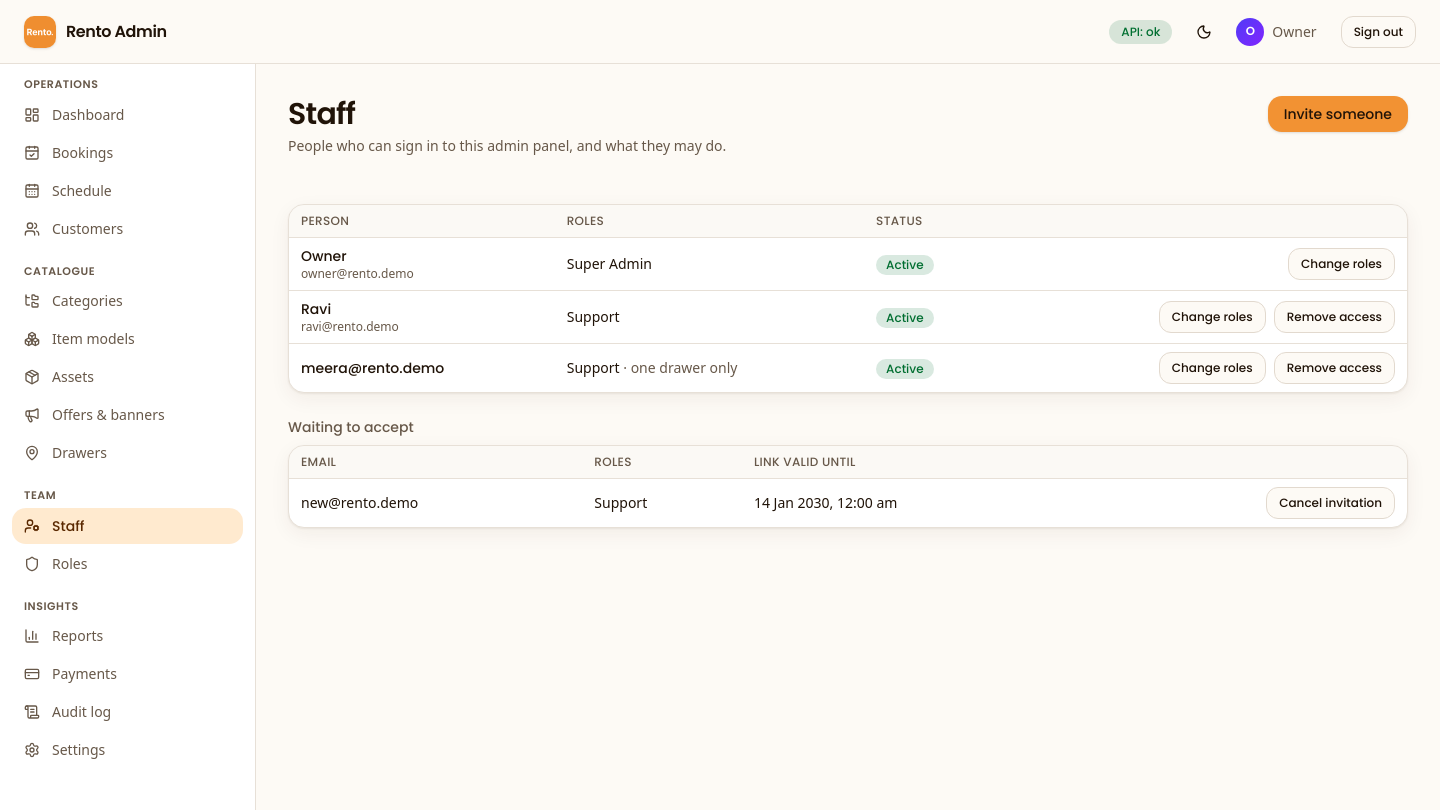
Scenario: staff › T-04 inviting needs an email and a role, then sends them (null drawer = all drawers)
Click the button "Invite someone" at [1338, 114], box [1268, 96, 1408, 132]
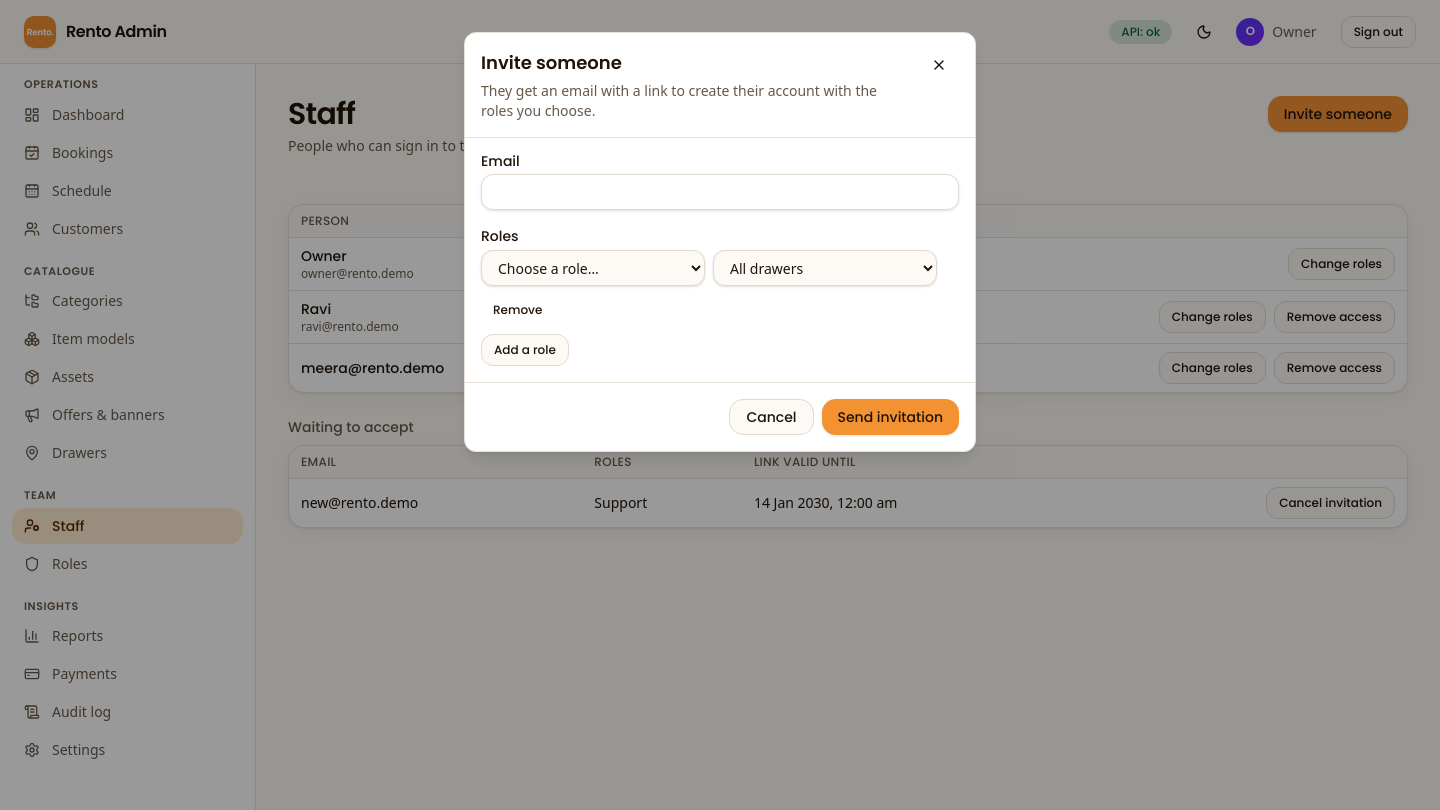
Click the button "Send invitation" at [890, 417], box [822, 399, 959, 435]
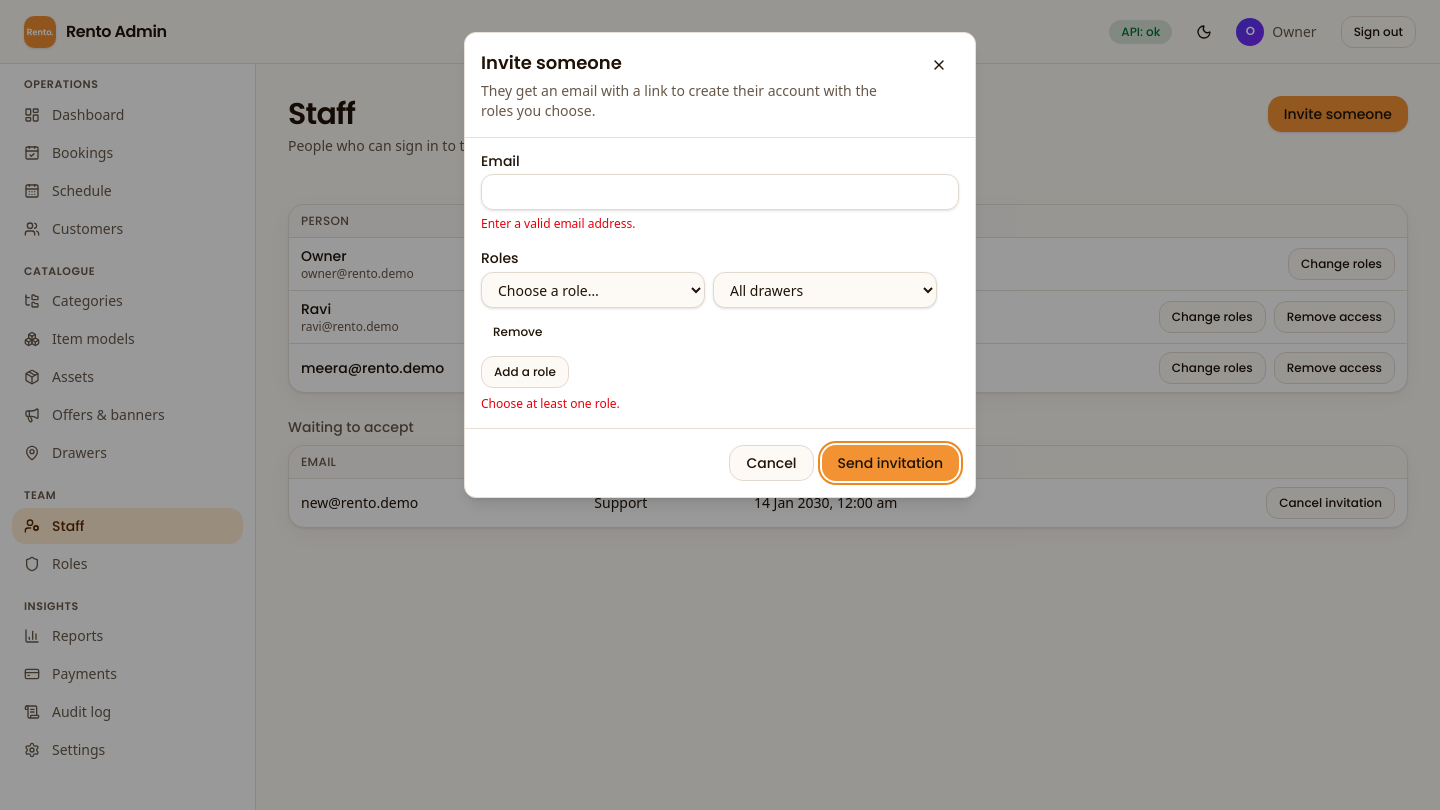
Expected: the text "Enter a valid email address." is shown, [481, 215, 635, 232]
Expected: the text "Choose at least one role." is shown, [481, 395, 620, 412]
Type "priya@rento.demo" into the field labelled "Email" at [720, 192], box [481, 174, 959, 210]
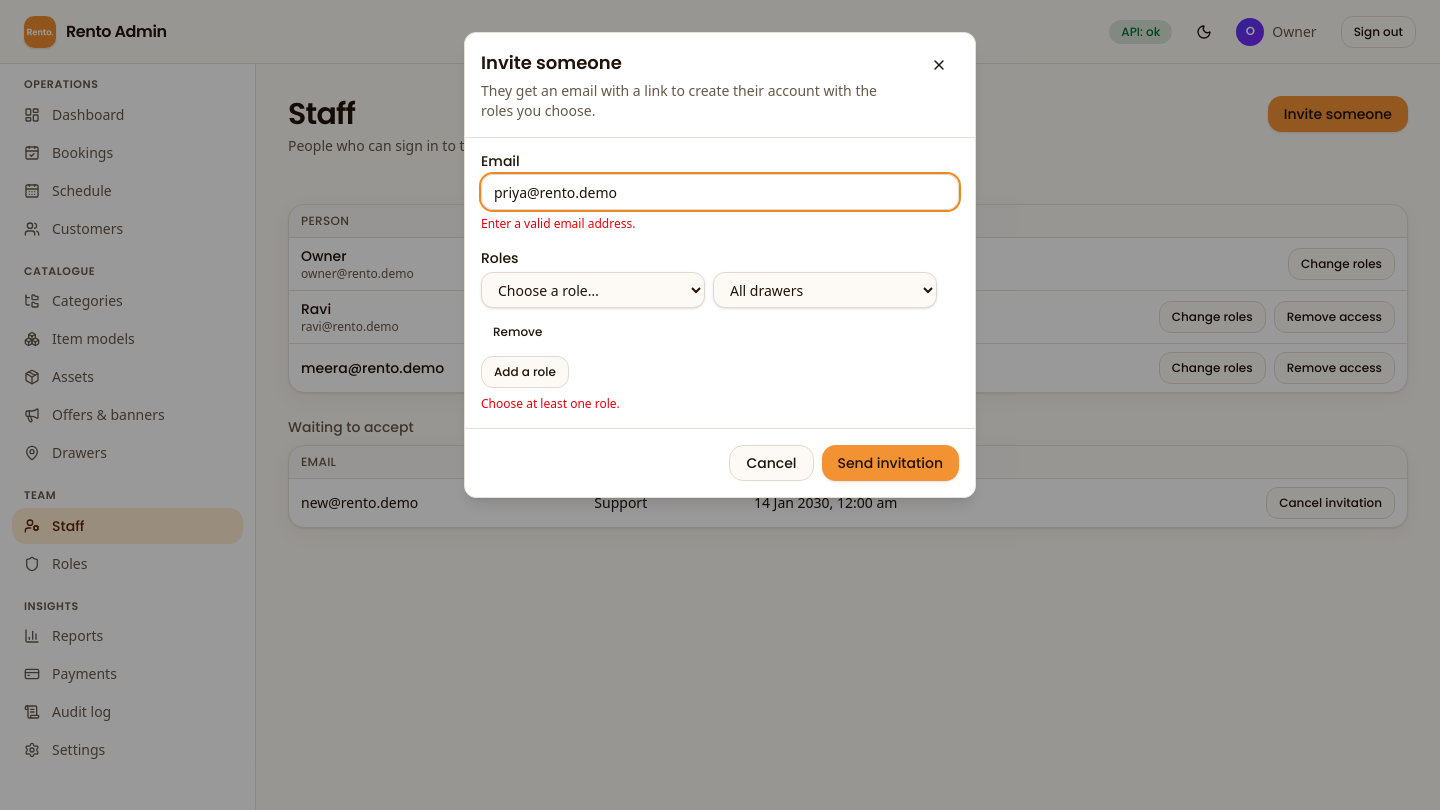
Select "Support" in the dropdown named "Role 1" at [593, 290], box [481, 272, 705, 308]
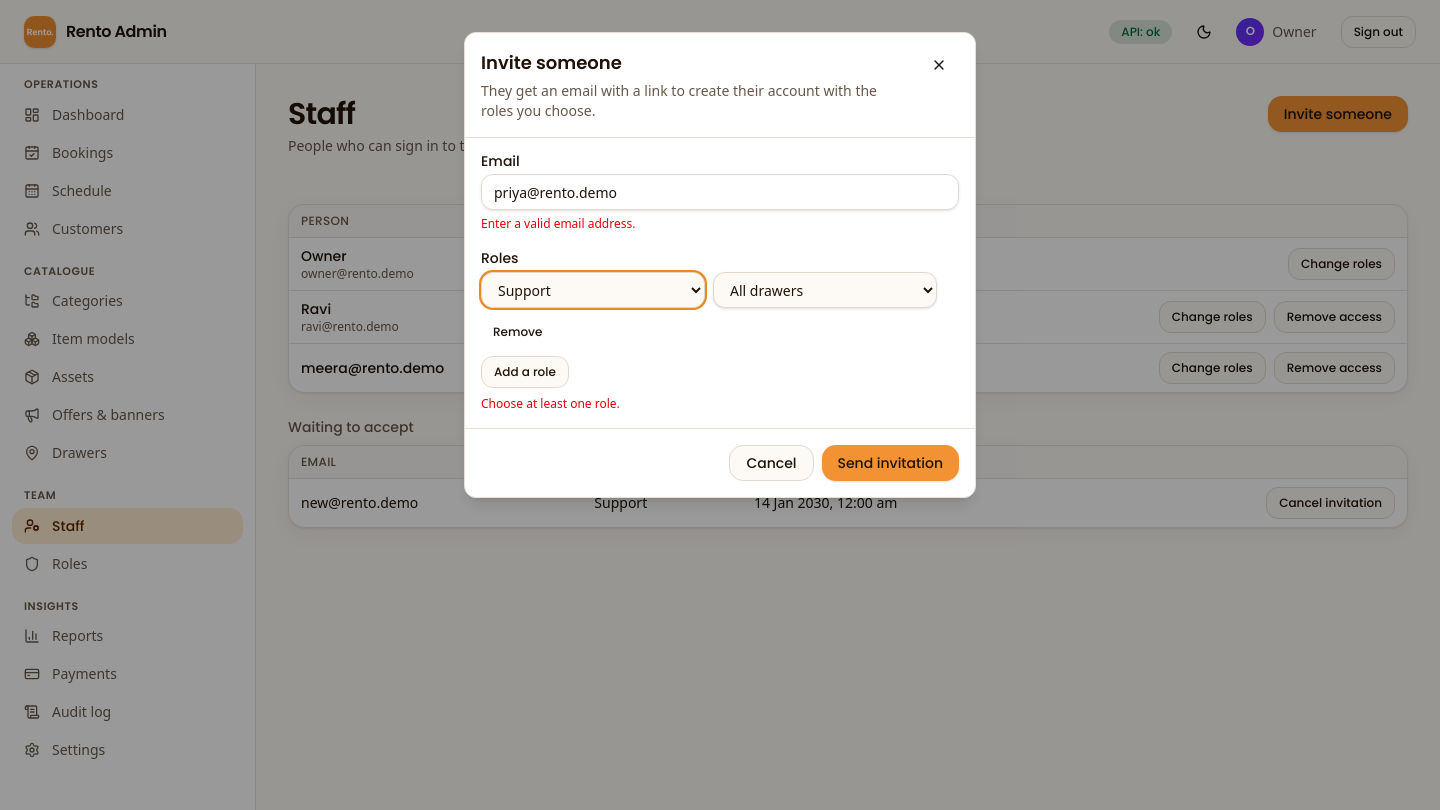
Click the button "Send invitation" at [890, 463], box [822, 445, 959, 481]
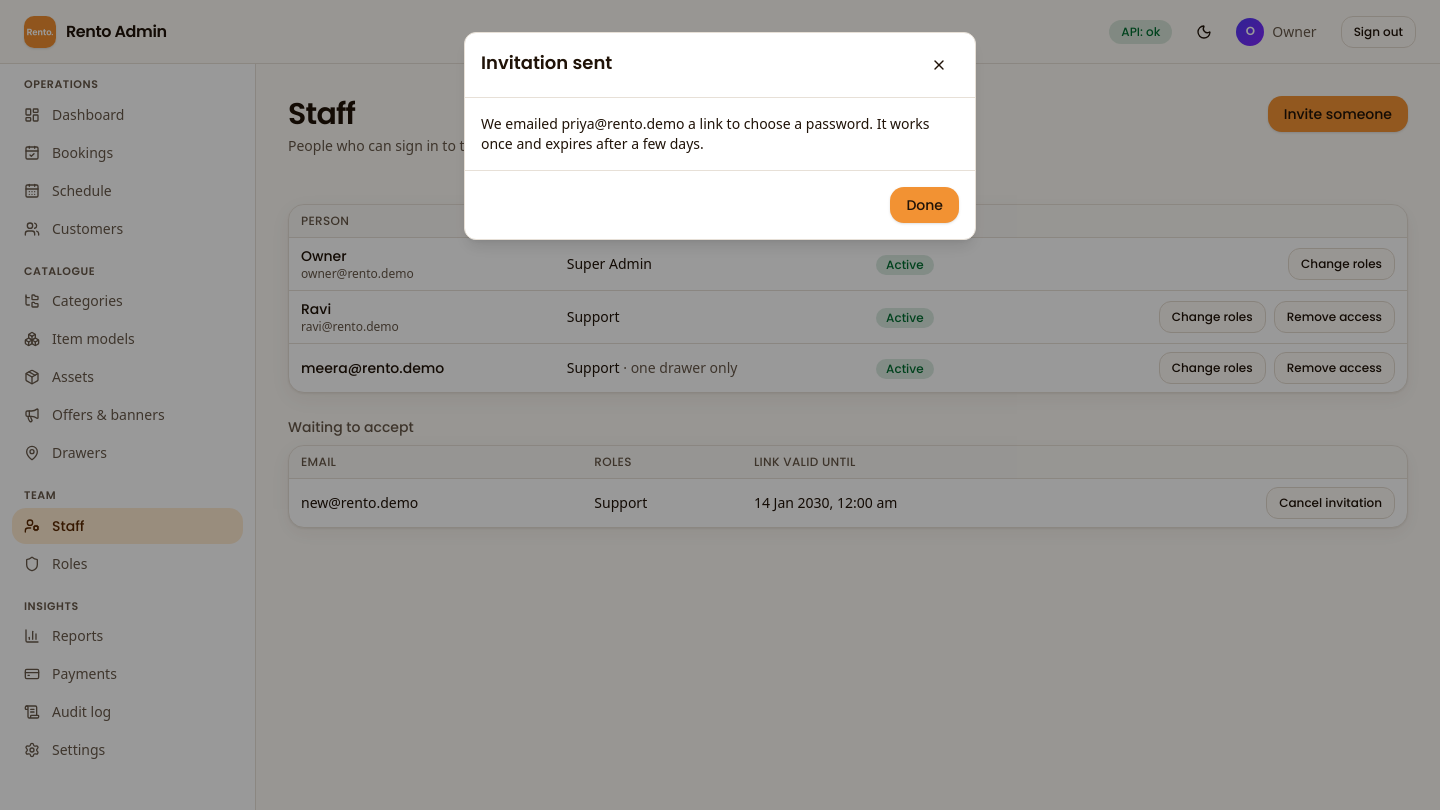
Expected: the dialog "Invitation sent" is shown, [464, 32, 976, 240]
